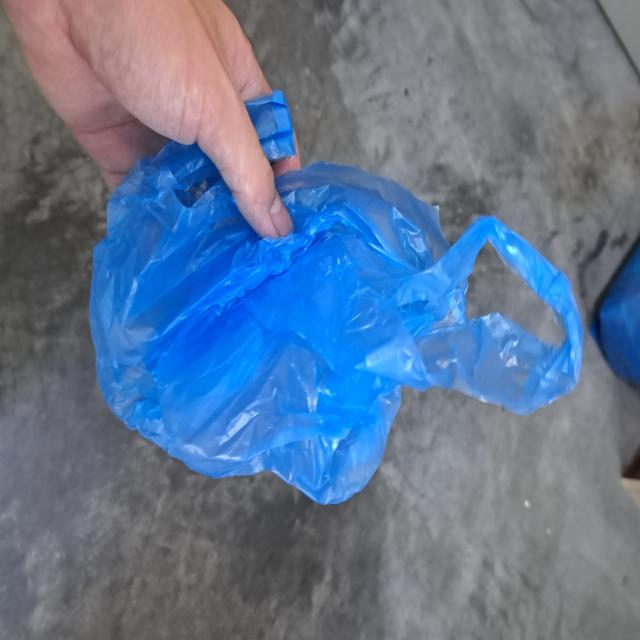plastic bag: (89, 90, 580, 498)
